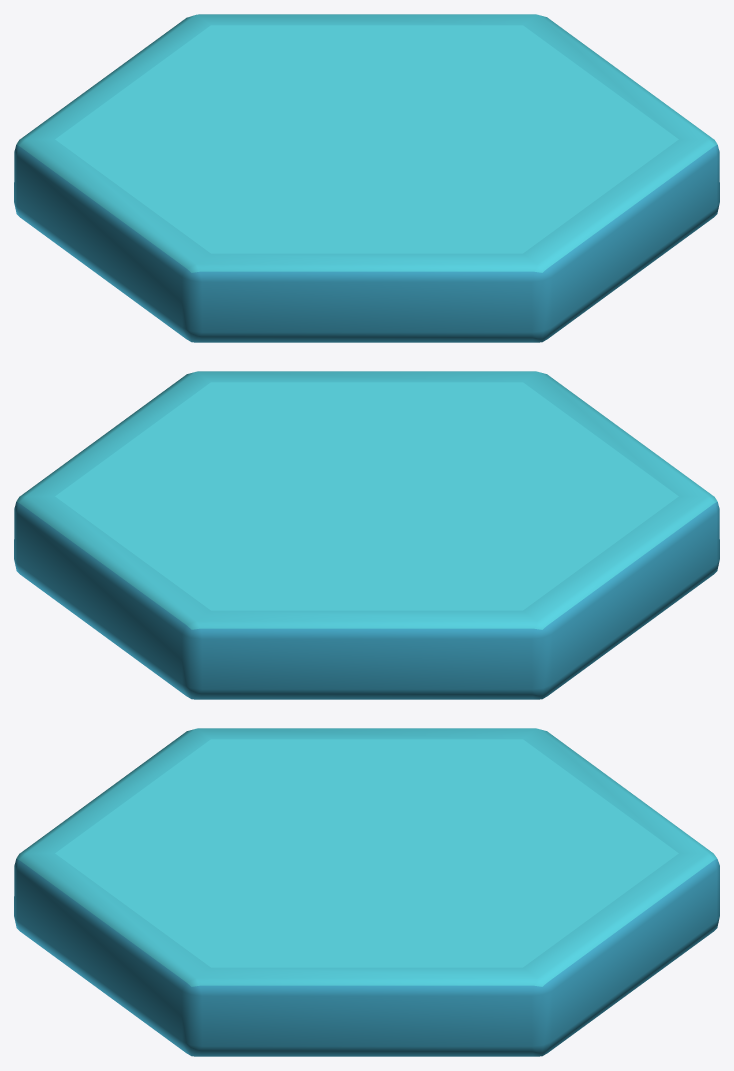
The model's file is Platform blue 1.fbx.
The picture shows the model from 3 angles, top to bottom: view 1: azimuth 30°, elevation 25°; view 2: azimuth 150°, elevation 25°; view 3: azimuth 270°, elevation 25°; orthographic projection.
Visible parts, largest first — view 1: Platform blue 1; view 2: Platform blue 1; view 3: Platform blue 1.
Boxes of the visible parts, x1=… form: Platform blue 1: x1=14, y1=14, x2=719, y2=342; Platform blue 1: x1=14, y1=371, x2=719, y2=699; Platform blue 1: x1=14, y1=728, x2=719, y2=1056.
Bounding box in the file's own units: 625 × 83.5 × 715.
